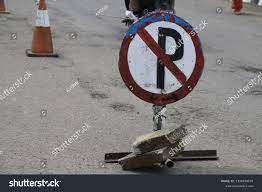No parking: (113, 11, 210, 112)
